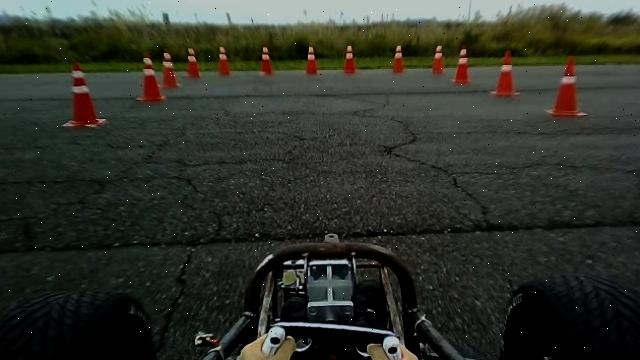red cone: (61, 60, 106, 127), (546, 55, 587, 117), (491, 47, 521, 96), (135, 53, 166, 100), (160, 49, 179, 88), (452, 46, 471, 83), (185, 46, 200, 78), (431, 44, 444, 73), (259, 45, 272, 74), (218, 45, 230, 75), (305, 44, 317, 73), (344, 45, 356, 73), (392, 44, 404, 72)
